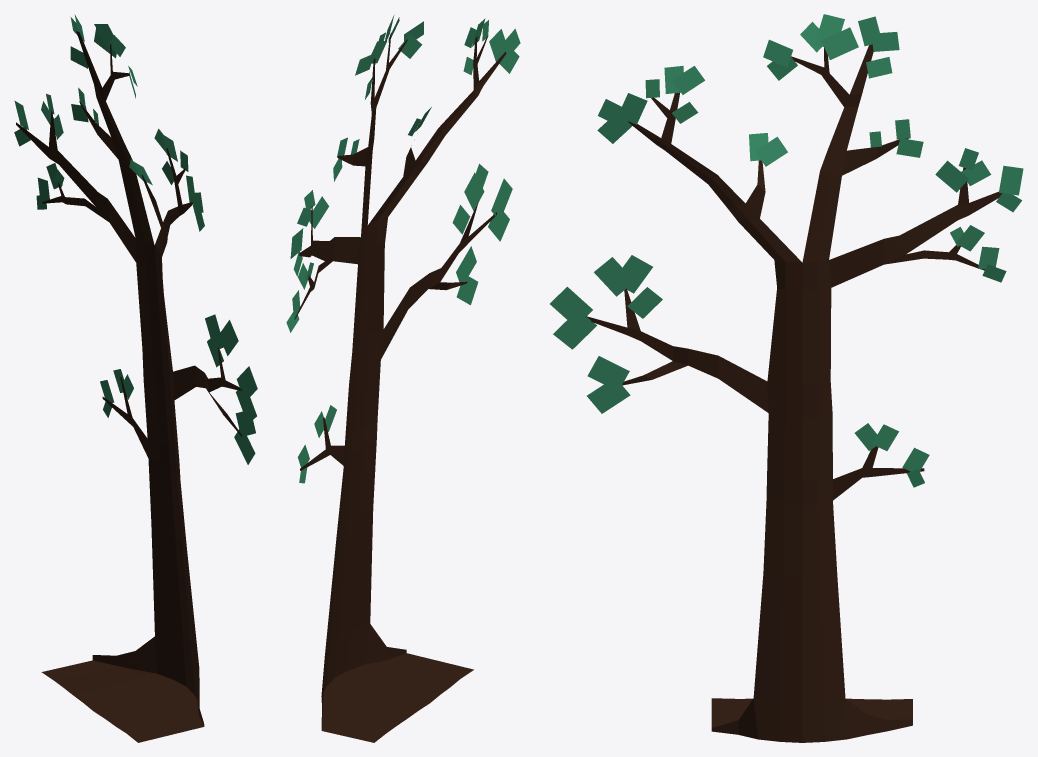
File: TREE_PAPER_RANDOM.fbx
3 views of the same model, side by side, from view 1: azimuth 30°, elevation 25°; view 2: azimuth 150°, elevation 25°; view 3: azimuth 270°, elevation 25° (orthographic). The views are drawn at different scales.
Parts seen in each view (by area): view 1: ARBRE_NEUTRE.001; view 2: ARBRE_NEUTRE.001; view 3: ARBRE_NEUTRE.001.
Boxes of the visible parts, bbox=[...] form: ARBRE_NEUTRE.001: bbox=[14, 14, 257, 742]; ARBRE_NEUTRE.001: bbox=[286, 15, 520, 742]; ARBRE_NEUTRE.001: bbox=[550, 14, 1023, 742].
Size of the model in its own units: 146 by 1014 by 625.
